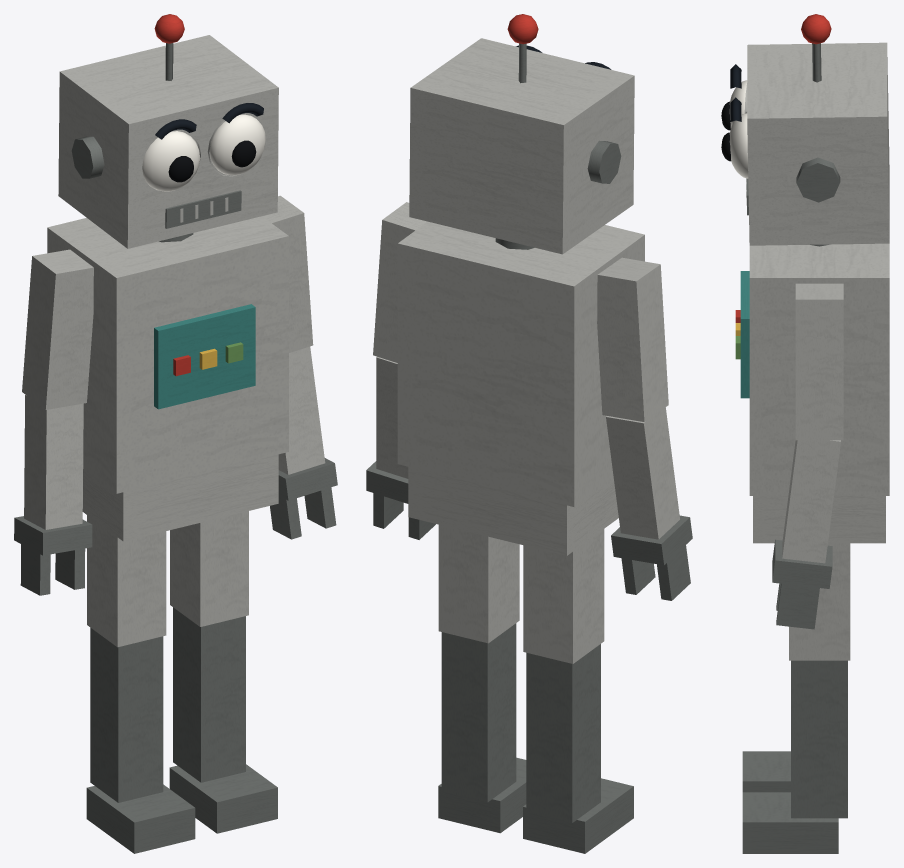
Rendered from robot.glb.
The picture shows the model from 3 angles, left to right: view 1: azimuth 30°, elevation 25°; view 2: azimuth 150°, elevation 25°; view 3: azimuth 270°, elevation 25°; orthographic projection. The views are drawn at different scales.
Parts seen in each view (by area): view 1: torso, head, kneeR, kneeL, shoulderR, hips, hipR, hipL, elbowR, footR, footL, handR (+4 smaller); view 2: torso, head, kneeL, kneeR, hips, shoulderR, hipR, hipL, elbowR, handR, footR, shoulderL (+3 smaller); view 3: head, torso, kneeL, shoulderL, elbowL, footL, hipL, hips, handL, footR.
Boxes of the visible parts, bbox=[...] form: torso: bbox=[47, 216, 288, 493]; head: bbox=[58, 14, 278, 248]; kneeR: bbox=[90, 628, 163, 802]; kneeL: bbox=[173, 607, 245, 782]; shoulderR: bbox=[22, 249, 93, 409]; hips: bbox=[82, 454, 278, 541]; hipR: bbox=[87, 515, 166, 647]; hipL: bbox=[170, 511, 248, 626]; elbowR: bbox=[24, 395, 83, 529]; footR: bbox=[86, 784, 195, 853]; footL: bbox=[169, 764, 277, 833]; handR: bbox=[14, 516, 92, 595]; torso: bbox=[397, 221, 644, 506]; head: bbox=[409, 14, 634, 254]; kneeL: bbox=[441, 623, 516, 802]; kneeR: bbox=[526, 644, 600, 822]; hips: bbox=[408, 467, 618, 555]; shoulderR: bbox=[597, 257, 668, 421]; hipR: bbox=[523, 529, 604, 663]; hipL: bbox=[438, 524, 519, 643]; elbowR: bbox=[606, 407, 679, 539]; handR: bbox=[611, 515, 692, 600]; footR: bbox=[523, 778, 633, 853]; shoulderL: bbox=[373, 202, 427, 362]; head: bbox=[721, 14, 889, 245]; torso: bbox=[735, 243, 889, 495]; kneeL: bbox=[791, 660, 847, 818]; shoulderL: bbox=[795, 283, 843, 440]; elbowL: bbox=[782, 440, 840, 563]; footL: bbox=[742, 792, 838, 853]; hipL: bbox=[789, 543, 850, 660]; hips: bbox=[753, 496, 885, 543]; handL: bbox=[772, 539, 832, 629]; footR: bbox=[742, 751, 790, 792].
Size of the model in its own units: 0.7851 by 2.02 by 0.3843.
14 materials, 11 textured.
